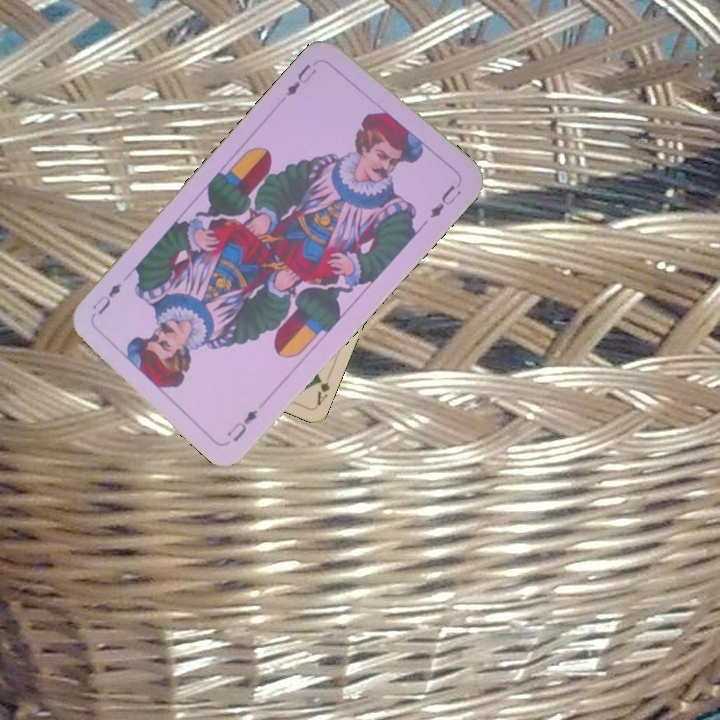EU: (222, 405, 260, 445), (282, 59, 319, 100)
GA: (312, 374, 333, 408)
